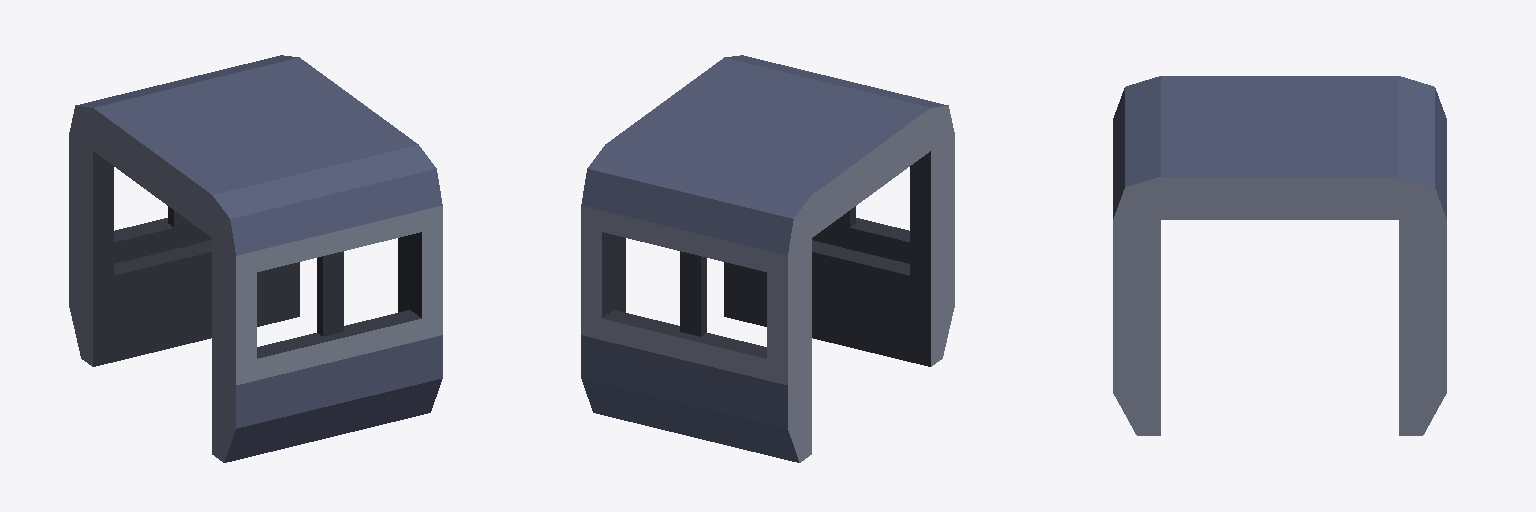
Rendered from cover-bar.obj.
The picture shows the model from 3 angles: view 1: azimuth 30°, elevation 25°; view 2: azimuth 150°, elevation 25°; view 3: azimuth 270°, elevation 25°; orthographic projection.
Visible parts, largest first — view 1: cover-bar; view 2: cover-bar; view 3: cover-bar.
Boxes of the visible parts, x1,y1,x2,y2 form: cover-bar: [69, 55, 442, 462]; cover-bar: [581, 55, 954, 462]; cover-bar: [1113, 76, 1446, 435].
Size of the model in its own units: 1 by 1.2 by 1.4.